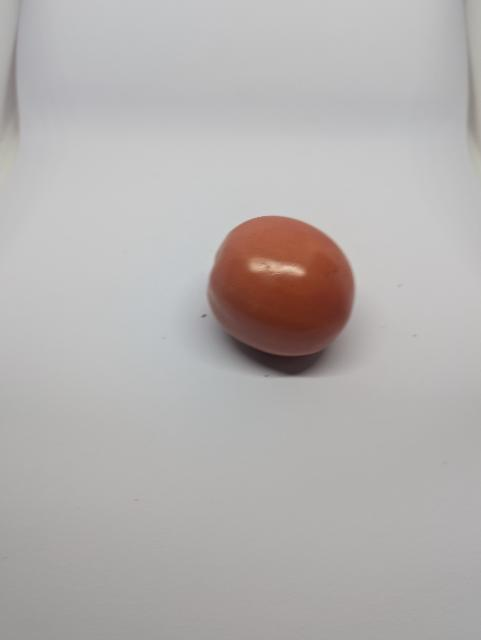red: (200, 207, 368, 370)
